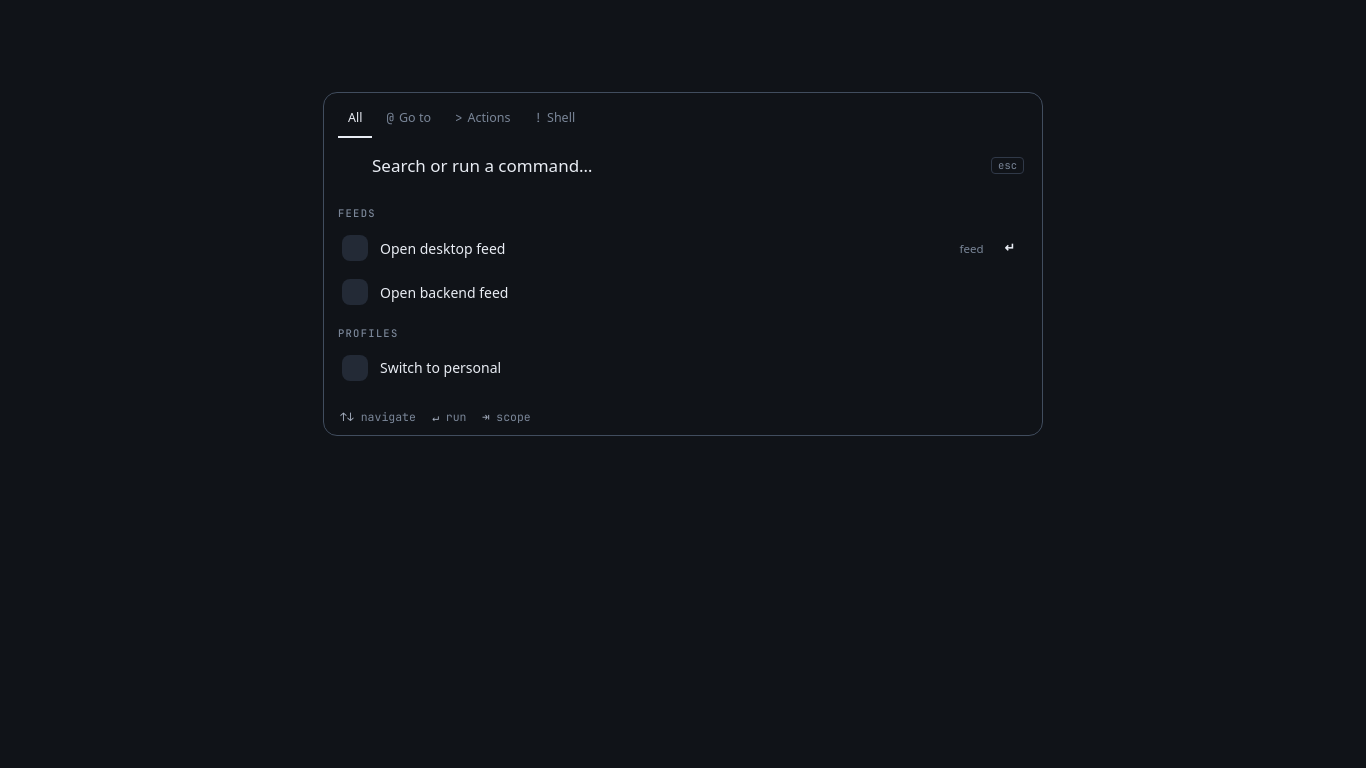
Test: CommandPalette › replaces headers with a per-row scope prefix while filtering
Type "open" into the field with test id "command-palette-input" at (676, 166), box [372, 153, 979, 178]
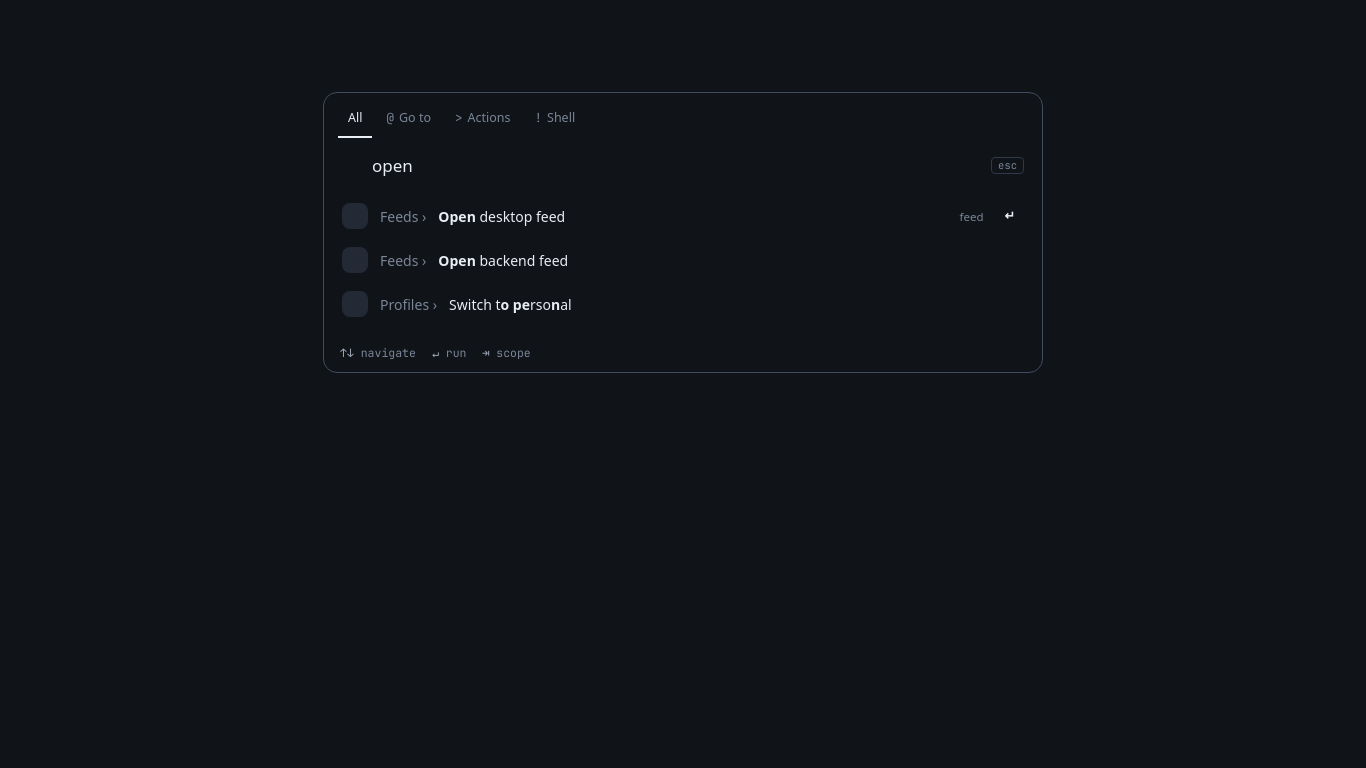
Expected: the elements with test id "command-palette-command-scope" read "Feeds ›", "Feeds ›", "Profiles ›", in this order, [380, 206, 426, 227]; [380, 250, 426, 271]; [380, 294, 437, 315]
